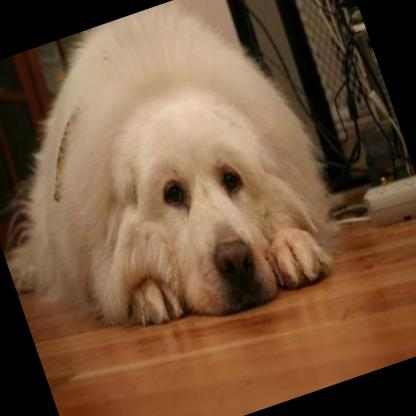Great_Pyrenees: (0, 0, 364, 380)
